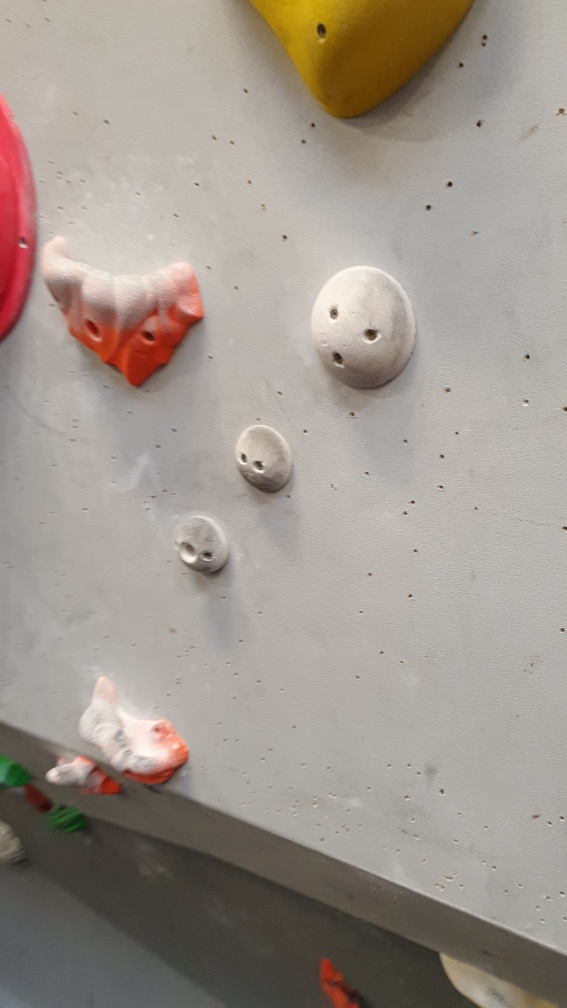Jug: (38, 233, 207, 392), (72, 671, 191, 791)
Sloper: (307, 261, 420, 395), (233, 423, 299, 499), (174, 510, 234, 576)
